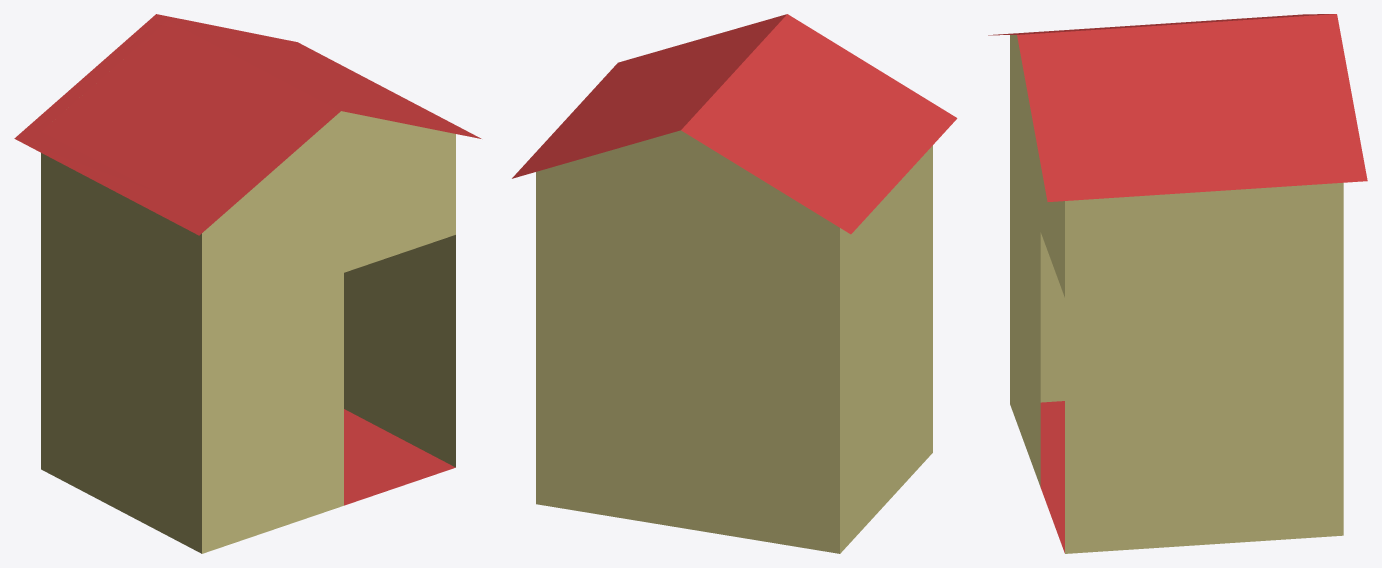
3 views of the same model, side by side, from view 1: azimuth 30°, elevation 25°; view 2: azimuth 150°, elevation 25°; view 3: azimuth 270°, elevation 25° (orthographic). The views are drawn at different scales.
Size of the model in its own units: 10.64 by 9.12 by 11.76.
